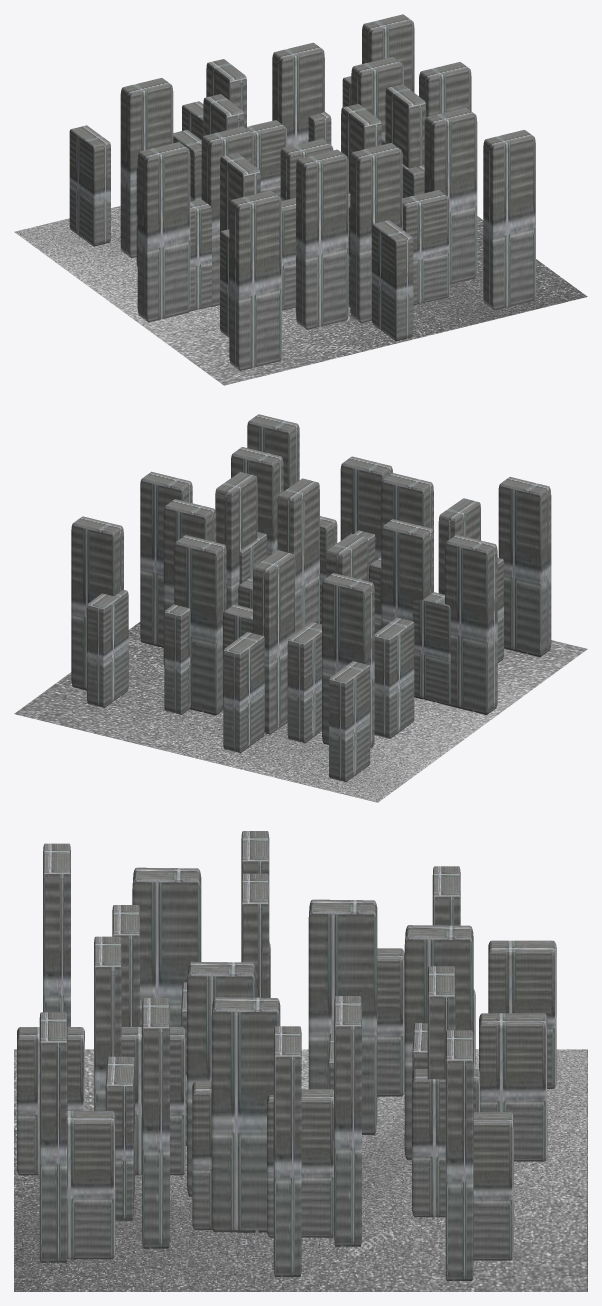
The model's file is city.dae.
The picture shows the model from 3 angles, top to bottom: view 1: azimuth 30°, elevation 25°; view 2: azimuth 150°, elevation 25°; view 3: azimuth 270°, elevation 25°; orthographic projection. The views are drawn at different scales.
Visible parts, largest first — view 1: Cube.022_Cube.023; view 2: Cube.022_Cube.023; view 3: Cube.022_Cube.023.
Part boxes in pixels (bbox=[...]): Cube.022_Cube.023: bbox=[14, 14, 587, 385]; Cube.022_Cube.023: bbox=[14, 414, 587, 802]; Cube.022_Cube.023: bbox=[14, 831, 587, 1291].
Size of the model in its own units: 633 by 633 by 273.
Materials: 2 (2 with a texture image).
